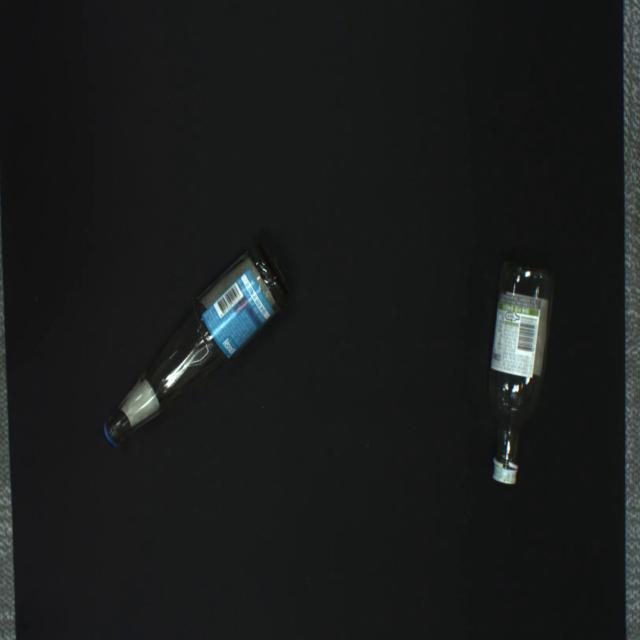beer-bottle: (104, 241, 288, 446)
soju-bottle: (489, 264, 553, 484)
